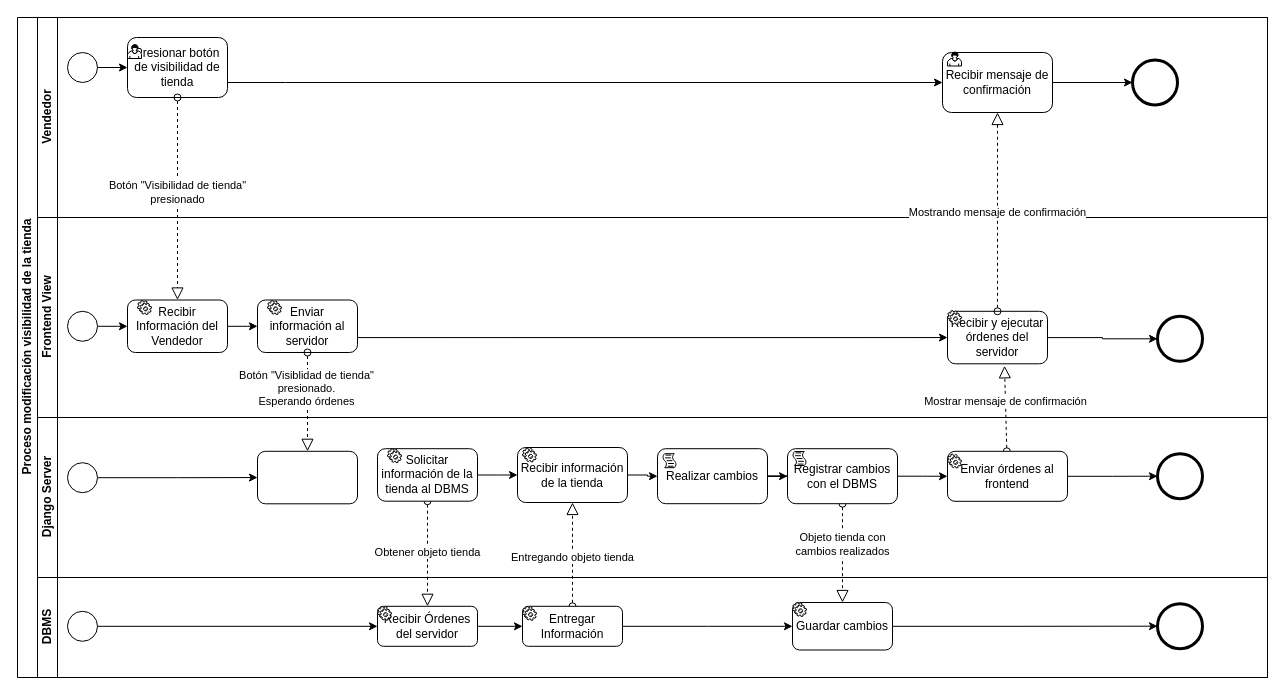
Some shapes in this 1286 by 695 pixel diagram are drawn without their labels. The shapes that lost their labels are listed below. From the top down, each one's centre as x and y in pixels, then its label:
At (x=1155, y=82): "Cambios Realizados".
At (x=1179, y=338): "Comunicación con server exitosa".
At (x=307, y=477): "Recibir información del frontend".
At (x=1179, y=476): "Proceso de cambios exitoso".
At (x=1179, y=626): "Cambios Guardados".
